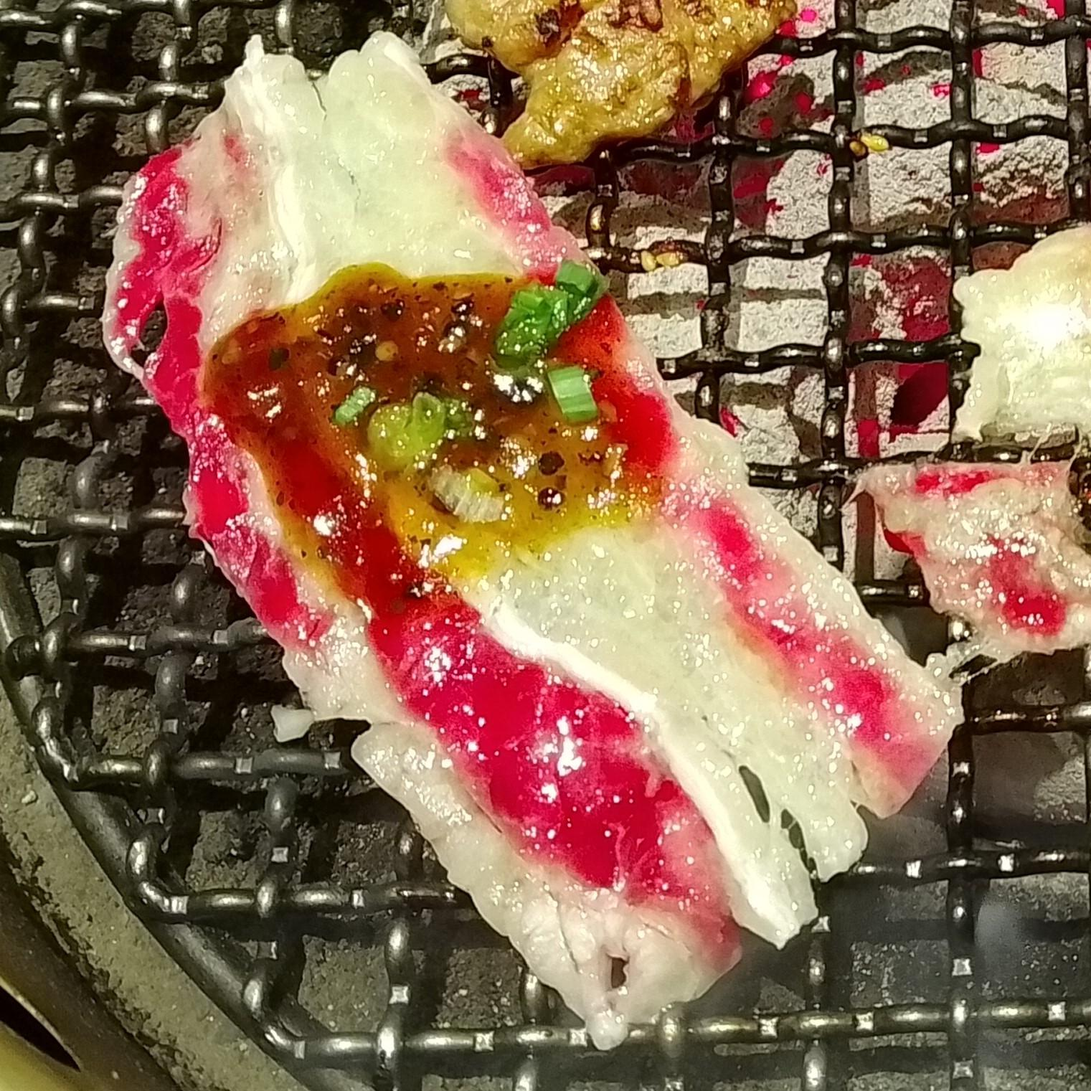Undercooked: (103, 33, 961, 1049), (856, 463, 1090, 661)
Well-Cooked: (445, 0, 796, 169)
